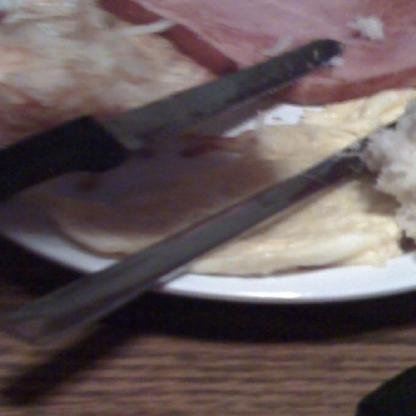knife: (0, 34, 339, 277)
